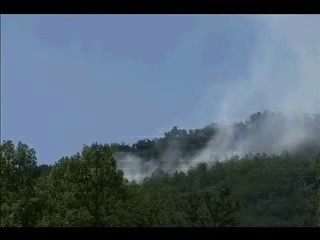smoke: (210, 14, 315, 166), (111, 132, 210, 183)
